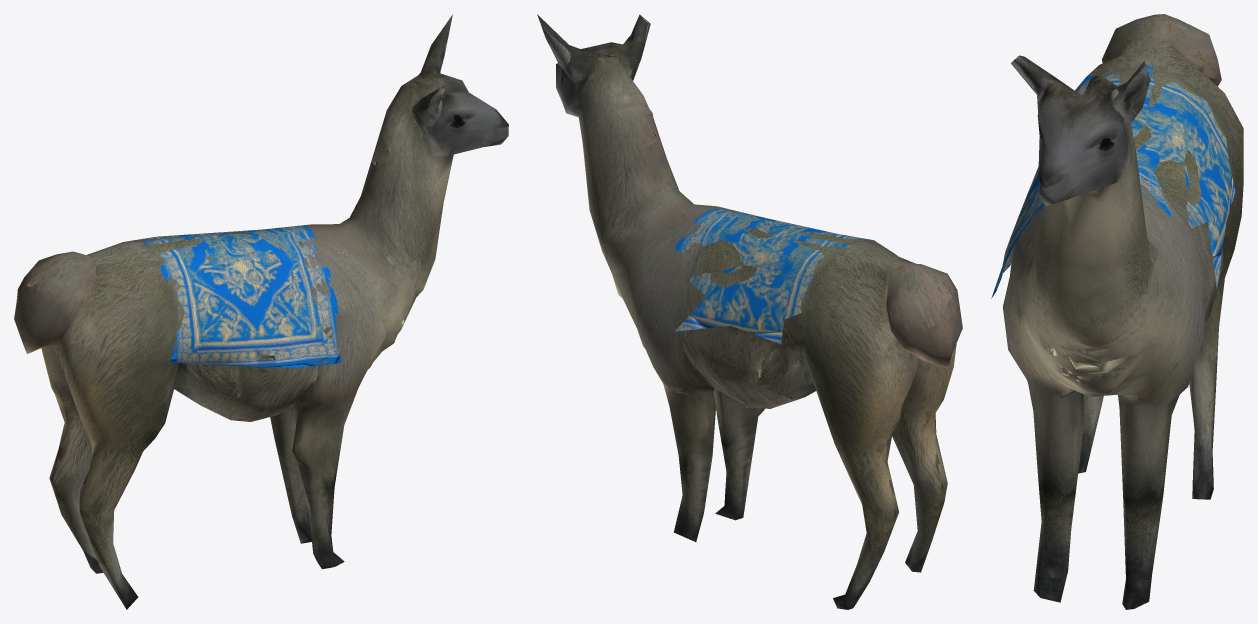
The model's file is trader_llama_gray_single_1500.glb.
3 renders of one model, left to right at view 1: azimuth 30°, elevation 25°; view 2: azimuth 150°, elevation 25°; view 3: azimuth 270°, elevation 25°, orthographic. The views are drawn at different scales.
Bounding box in the file's own units: 0.8251 × 0.8773 × 0.3109.
1 material, 1 textured.
